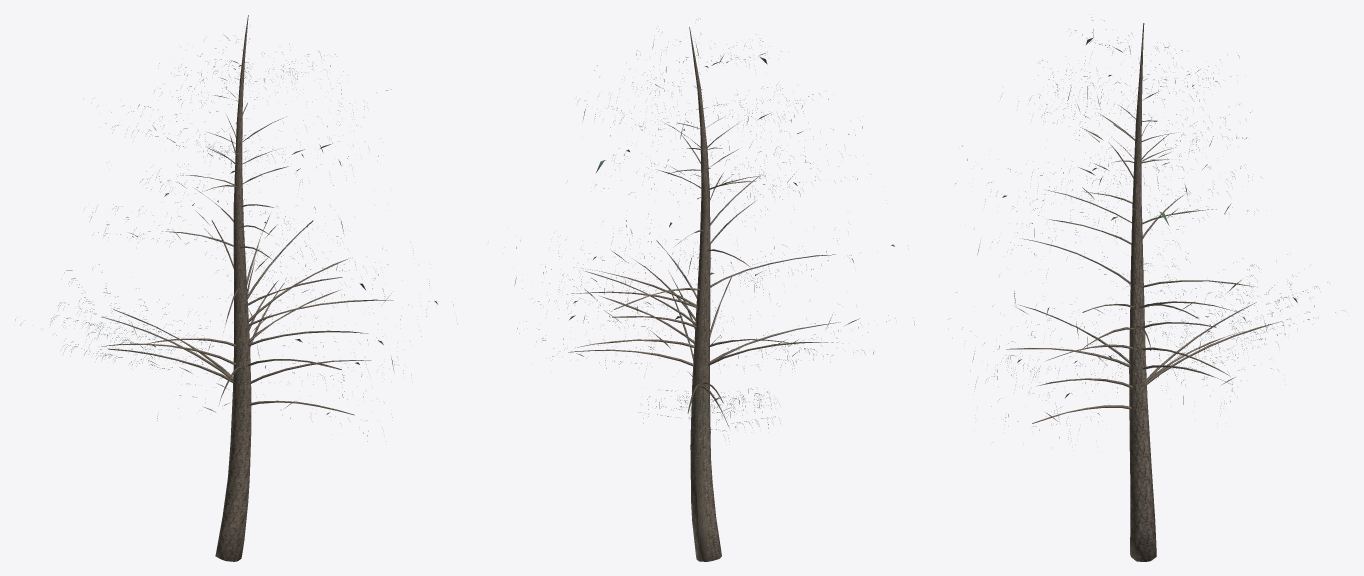
Rendered from casuarina-4-lite.glb.
3 views of the same model, side by side, from view 1: azimuth 30°, elevation 25°; view 2: azimuth 150°, elevation 25°; view 3: azimuth 270°, elevation 25° (orthographic). The views are drawn at different scales.
Visible parts, largest first — view 1: bark, branchlets; view 2: bark, branchlets; view 3: bark, branchlets.
Part boxes in pixels (box(x1,y1,x2,y2)): bark: box(101, 15, 393, 561); branchlets: box(15, 25, 453, 441); bark: box(567, 27, 859, 561); branchlets: box(514, 19, 914, 441); bark: box(1006, 23, 1281, 561); branchlets: box(950, 17, 1343, 439).
Size of what is drawn, in the model's own units: 5.94 by 7.83 by 5.29.
Materials: 2 (2 with a texture image).
